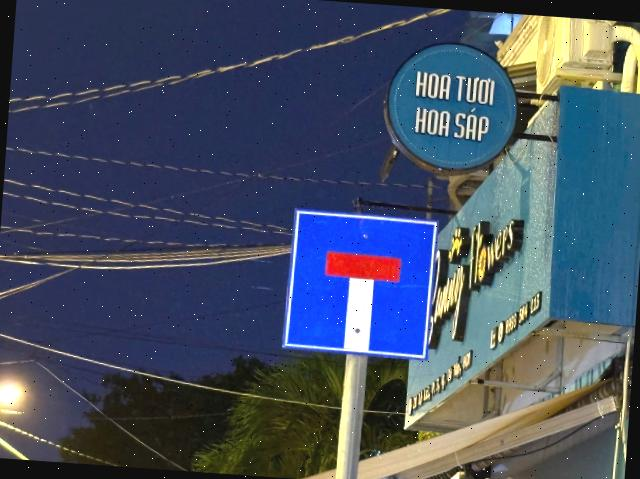duong-cut: (282, 207, 438, 360)
